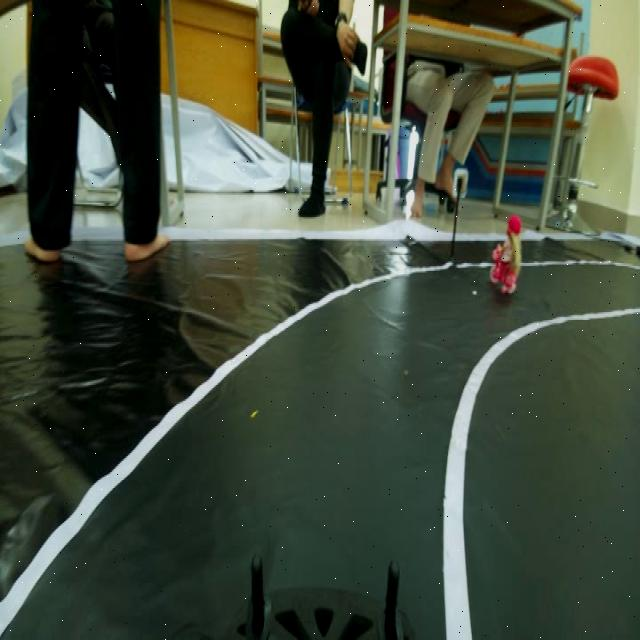pedestrian: (492, 204, 526, 298)
